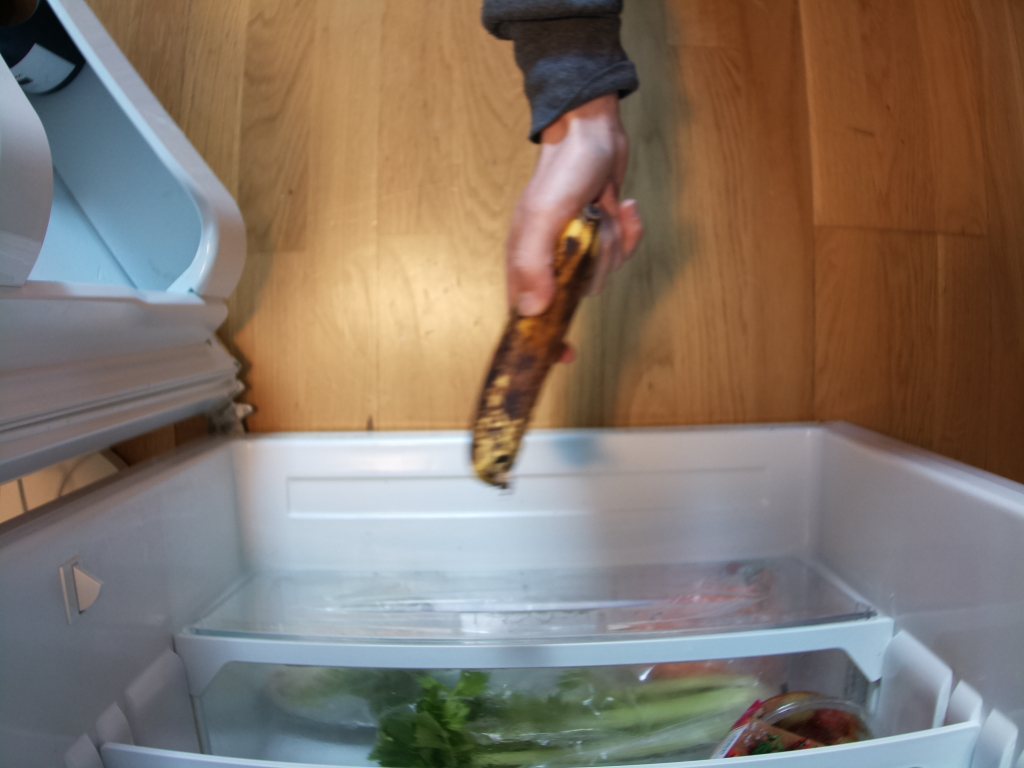banana-overripe: (468, 212, 608, 491)
